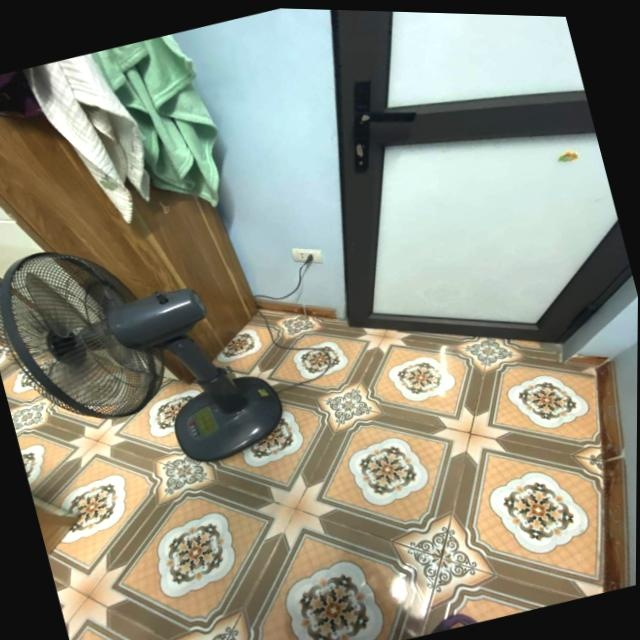outlet: (290, 240, 325, 270)
